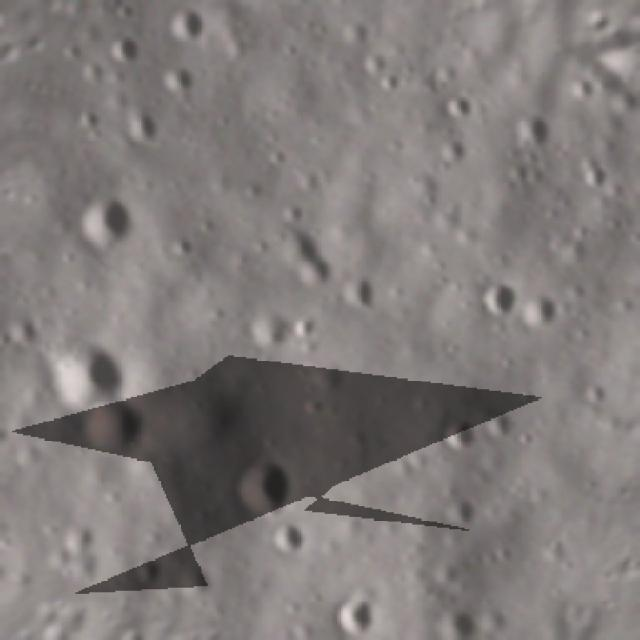crater: (42, 323, 132, 414), (226, 442, 314, 524), (270, 219, 352, 304), (82, 392, 158, 468), (71, 186, 147, 260), (328, 586, 388, 640), (330, 261, 384, 321), (242, 301, 298, 357), (513, 284, 567, 342), (434, 406, 486, 465), (472, 270, 525, 324), (152, 51, 206, 103), (124, 97, 176, 151), (260, 510, 315, 559), (170, 561, 224, 610), (508, 103, 558, 155), (161, 0, 210, 52), (440, 488, 483, 538), (104, 22, 145, 72), (477, 398, 521, 444), (434, 600, 483, 640), (575, 154, 617, 200), (3, 307, 46, 351), (283, 302, 325, 346), (64, 100, 110, 138), (438, 87, 480, 128), (334, 12, 375, 54), (62, 516, 105, 556), (130, 550, 173, 590), (561, 69, 602, 108), (375, 66, 410, 100), (168, 232, 201, 259)
